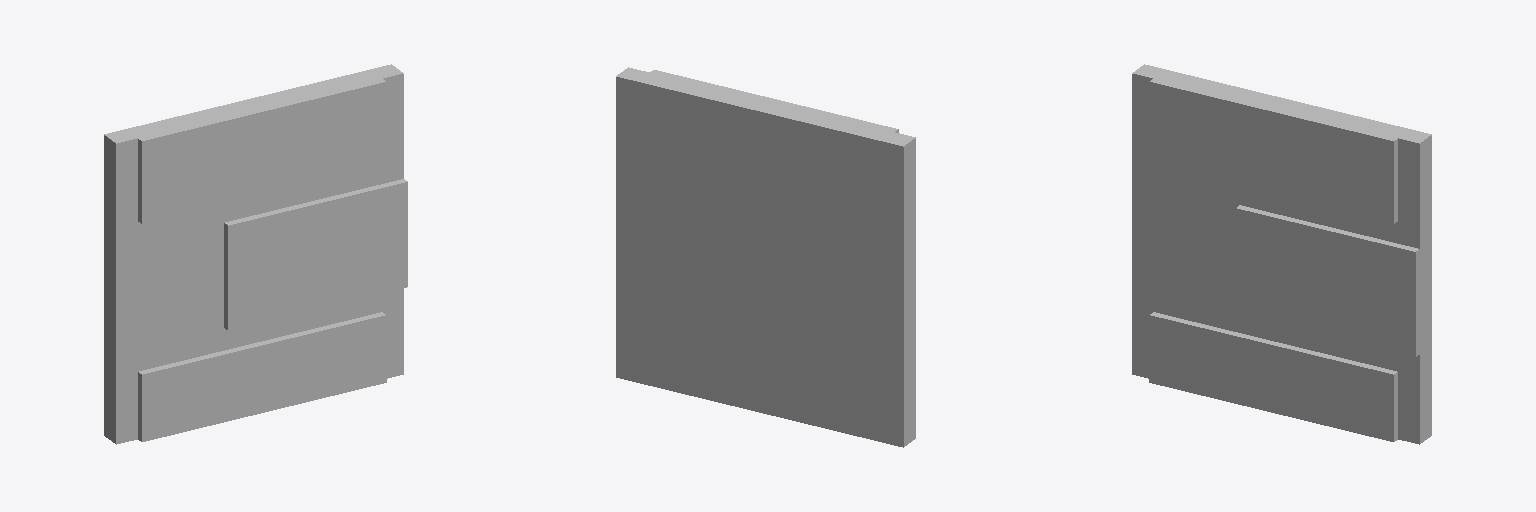
Rendered from wall tile 04.obj.
3 views of the same model, side by side, from view 1: azimuth 30°, elevation 25°; view 2: azimuth 150°, elevation 25°; view 3: azimuth 330°, elevation 25° (orthographic).
Bounding box in the file's own units: 40 × 40 × 4.